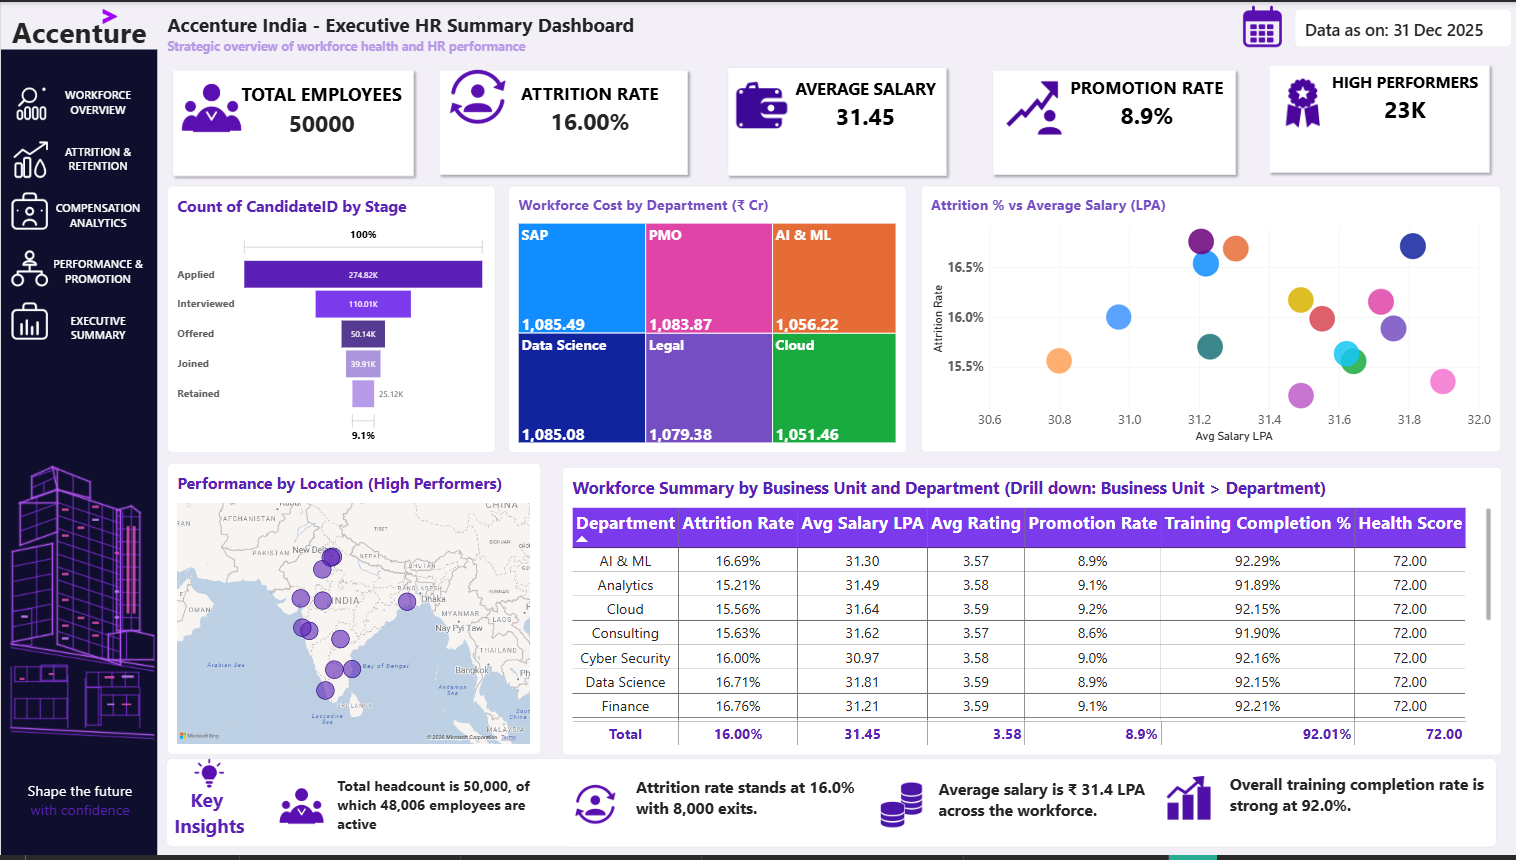

This screenshot's page, from the dashboard's own definition file:
{"tool":"powerbi","page":{"name":"EXECUTIVE SUMMARY","canvas":[2560,1440],"ordinal":4},"visuals":[{"type":"group","id":"g1","title":"Group 2","box":[0,0,264.6,1440.4],"z":0},{"type":"cardVisual","fields":{"Data":["MeasureTable.Data As On"]},"box":[2182.8,12.7,367,63.3],"z":0,"group":"g8"},{"type":"shape","box":[0,80.1,263.6,1360.3],"z":0,"group":"g1"},{"type":"shape","box":[2130.9,96.7,390.1,199.6],"z":0,"group":"g3"},{"type":"shape","box":[1217.7,100.5,387.1,200.7],"z":0,"group":"g6"},{"type":"shape","box":[728.7,104.9,437.7,195.3],"z":0,"group":"g5"},{"type":"shape","box":[1663.5,104.9,428,195.3],"z":0,"group":"g4"},{"type":"shape","box":[280.4,105.2,424.5,197.2],"z":0,"group":"g2"},{"type":"image","box":[2073.4,0,110.3,81.5],"z":1000,"group":"g8"},{"type":"textbox","box":[0,16.2,264.3,64.7],"z":1000,"group":"g1"},{"type":"cardVisual","fields":{"Data":["MeasureTable.Avg Salary LPA"]},"box":[1278.4,69.8,361.9,206.1],"z":1000,"group":"g6"},{"type":"cardVisual","fields":{"Data":["MeasureTable.High Performers"]},"box":[2191,70.2,359.6,184.6],"z":1000,"group":"g3"},{"type":"group","id":"g2","title":"Group 1","box":[280.4,75,463.9,227.4],"z":1000},{"type":"cardVisual","fields":{"Data":["MeasureTable.Total Employees"]},"box":[336.9,75,407.5,213.3],"z":1000,"group":"g2"},{"type":"cardVisual","fields":{"Data":["MeasureTable.Attrition Rate"]},"box":[777.4,75,431.5,210.9],"z":1000,"group":"g5"},{"type":"cardVisual","fields":{"Data":["MeasureTable.Promotion Rate"]},"box":[1734.2,75,395.5,189.4],"z":1000,"group":"g4"},{"type":"image","box":[163.6,0,37.8,48.5],"z":2000,"group":"g1"},{"type":"group","id":"g3","title":"Group 1","box":[2130.9,70.2,419.6,226.1],"z":2000},{"type":"image","box":[743.8,99,119.9,122.2],"z":2000,"group":"g5"},{"type":"image","box":[2145.4,106.2,103.1,131.8],"z":2000,"group":"g3"},{"type":"image","box":[1232.9,110.5,103.1,122.2],"z":2000,"group":"g6"},{"type":"image","box":[296.1,115.7,119.9,117.5],"z":2000,"group":"g2"},{"type":"image","box":[1681.4,122.9,115.1,107.9],"z":2000,"group":"g4"},{"type":"group","id":"g4","title":"Group 1","box":[1663.5,75,466.2,225.2],"z":3000},{"type":"group","id":"g5","title":"Group 1","box":[728.7,75,480.1,225.1],"z":4000},{"type":"image","box":[2.1,761.3,261.5,508.3],"z":4000,"group":"g1"},{"type":"textbox","box":[280.4,16.8,1011.5,91.1],"z":5000},{"type":"image","box":[2.1,132.9,99.1,73.8],"z":5000,"group":"g1"},{"type":"group","id":"g6","title":"Group 1","box":[1217.7,69.8,422.6,231.4],"z":6000},{"type":"image","box":[4.2,227.8,97,78],"z":6000,"group":"g1"},{"type":"funnel","fields":{"Category":["FactRecruitment.Stage"],"Y":["Count(FactRecruitment.CandidateID)"]},"box":[280.4,309.2,553.7,450.6],"z":7000},{"type":"image","box":[0,310,97,82.2],"z":7000,"group":"g1"},{"type":"treemap","title":"Workforce Cost by Department (₹ Cr)","fields":{"Group":["DimDepartment.DepartmentName"],"Values":["MeasureTable.Total Payroll Cr"]},"box":[855.7,309.2,671.2,450.6],"z":8000},{"type":"image","box":[0,411.2,97,82.2],"z":8000,"group":"g1"},{"type":"image","box":[0,495.6,97,82.2],"z":9000,"group":"g1"},{"type":"group","id":"g7","title":"Group 4","box":[227.7,1263.2,2293.9,170.2],"z":9000},{"type":"pageNavigator","box":[62.3,127,201.3,469.8],"z":10000,"group":"g1"},{"type":"scatterChart","title":"Attrition % vs Average Salary (LPA)","fields":{"Category":["DimDepartment.DepartmentName"],"Series":["DimDepartment.DepartmentName"],"Size":["MeasureTable.Total Employees"],"X":["MeasureTable.Avg Salary LPA"],"Y":["MeasureTable.Attrition Rate"]},"box":[1553.1,310,978.5,449.4],"z":10000},{"type":"map","title":"Performance by Location (High Performers)","fields":{"Category":["DimLocation.City"],"Size":["MeasureTable.Total Employees"]},"box":[280.4,779,630.4,491.4],"z":11000},{"type":"textbox","box":[2.1,1313.9,262.5,75.5],"z":11000,"group":"g1"},{"type":"tableEx","title":"Workforce Summary by Business Unit and Department (Drill down: Business Unit > Department)","fields":{"Values":["DimDepartment.DepartmentName","MeasureTable.Attrition Rate","MeasureTable.Avg Salary LPA","MeasureTable.Avg Rating","MeasureTable.Promotion Rate","MeasureTable.Training Completion %","MeasureTable.Health Score"]},"box":[946.8,783.8,1584.4,486.6],"z":12000},{"type":"group","id":"g8","title":"Group 3","box":[2073.4,0,476.3,81.5],"z":13000},{"type":"shape","box":[277.7,1276.8,2245.5,150],"z":19000,"group":"g7"},{"type":"textbox","box":[227.7,1324.6,247.7,109.1],"z":20000,"group":"g7"},{"type":"image","box":[320.9,1263.2,61.4,81.8],"z":21000,"group":"g7"},{"type":"image","box":[464.1,1308.7,86.4,88.6],"z":22000,"group":"g7"},{"type":"textbox","box":[566.3,1306.4,365.9,127.3],"z":23000,"group":"g7"},{"type":"image","box":[959.5,1308.7,86.4,88.6],"z":24000,"group":"g7"},{"type":"textbox","box":[1070.9,1306.4,397.7,120.5],"z":25000,"group":"g7"},{"type":"image","box":[1475.4,1308.7,86.4,88.6],"z":26000,"group":"g7"},{"type":"textbox","box":[1582.2,1308.7,352.3,118.2],"z":27000,"group":"g7"},{"type":"image","box":[1961.8,1301.8,86.4,88.6],"z":28000,"group":"g7"},{"type":"textbox","box":[2073.2,1301.8,429.5,125],"z":29000,"group":"g7"}]}

Visuals, with their boxes on the page's 2560x1440 design canvas (x1, y1, x2, y2). These are canvas units, not pixel positions in the 1516x860 screenshot, which may show the page scaled, cropped or inside an application window:
"Group 2" group: 0 0 265 1440
cardVisual - MeasureTable.Data As On: 2183 13 2550 76
shape: 0 80 264 1440
shape: 2131 97 2521 296
shape: 1218 100 1605 301
shape: 729 105 1166 300
shape: 1664 105 2092 300
shape: 280 105 705 302
image: 2073 0 2184 82
textbox: 0 16 264 81
cardVisual - MeasureTable.Avg Salary LPA: 1278 70 1640 276
cardVisual - MeasureTable.High Performers: 2191 70 2551 255
"Group 1" group: 280 75 744 302
cardVisual - MeasureTable.Total Employees: 337 75 744 288
cardVisual - MeasureTable.Attrition Rate: 777 75 1209 286
cardVisual - MeasureTable.Promotion Rate: 1734 75 2130 264
image: 164 0 201 48
"Group 1" group: 2131 70 2550 296
image: 744 99 864 221
image: 2145 106 2248 238
image: 1233 110 1336 233
image: 296 116 416 233
image: 1681 123 1796 231
"Group 1" group: 1664 75 2130 300
"Group 1" group: 729 75 1209 300
image: 2 761 264 1270
textbox: 280 17 1292 108
image: 2 133 101 207
"Group 1" group: 1218 70 1640 301
image: 4 228 101 306
funnel - FactRecruitment.Stage x Count(FactRecruitment.CandidateID): 280 309 834 760
image: 0 310 97 392
"Workforce Cost by Department (₹ Cr)" treemap: 856 309 1527 760
image: 0 411 97 493
image: 0 496 97 578
"Group 4" group: 228 1263 2522 1433
pageNavigator: 62 127 264 597
"Attrition % vs Average Salary (LPA)" scatterChart: 1553 310 2532 759
"Performance by Location (High Performers)" map: 280 779 911 1270
textbox: 2 1314 265 1389
"Workforce Summary by Business Unit and Department (Drill down: Business Unit > Department)" tableEx: 947 784 2531 1270
"Group 3" group: 2073 0 2550 82
shape: 278 1277 2523 1427
textbox: 228 1325 475 1434
image: 321 1263 382 1345
image: 464 1309 550 1397
textbox: 566 1306 932 1434
image: 960 1309 1046 1397
textbox: 1071 1306 1469 1427
image: 1475 1309 1562 1397
textbox: 1582 1309 1934 1427
image: 1962 1302 2048 1390
textbox: 2073 1302 2503 1427
